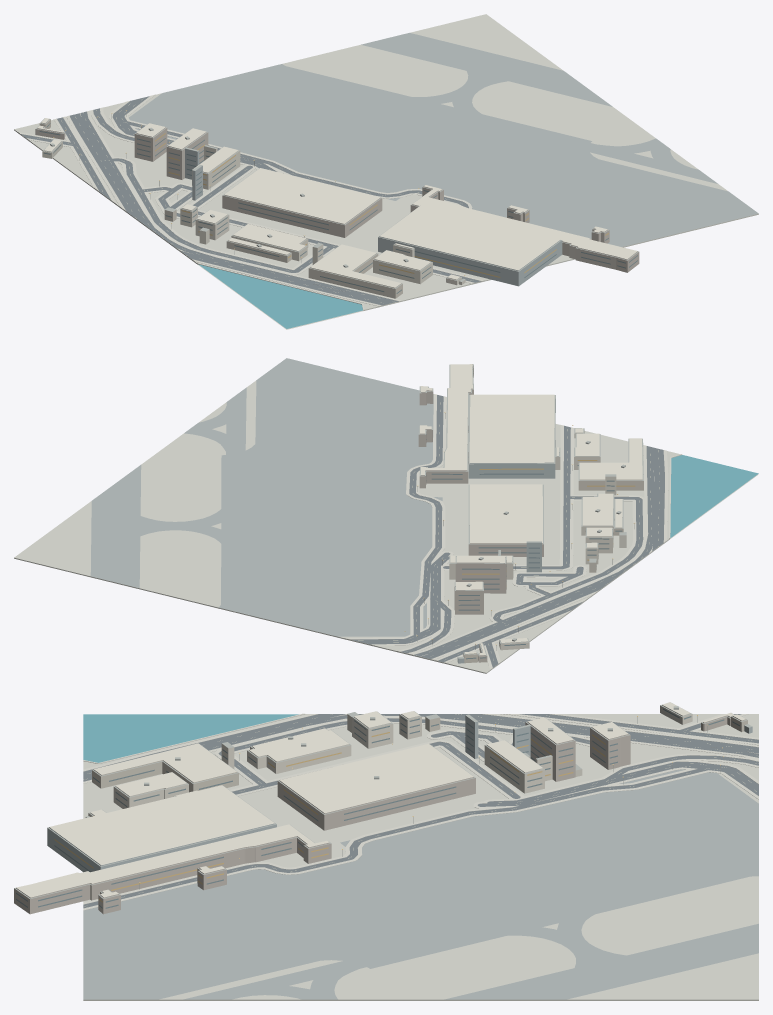
The picture shows the model from 3 angles, top to bottom: view 1: azimuth 30°, elevation 25°; view 2: azimuth 150°, elevation 25°; view 3: azimuth 270°, elevation 25°; orthographic projection. The views are drawn at different scales.
Visible parts, largest first — view 1: city; view 2: city; view 3: city.
Part boxes in pixels (x1,y1,x2,y2): city: (14,14,758,329); city: (14,358,758,673); city: (14,702,758,1000).
Size of the model in its own units: 508 by 32.95 by 551.
